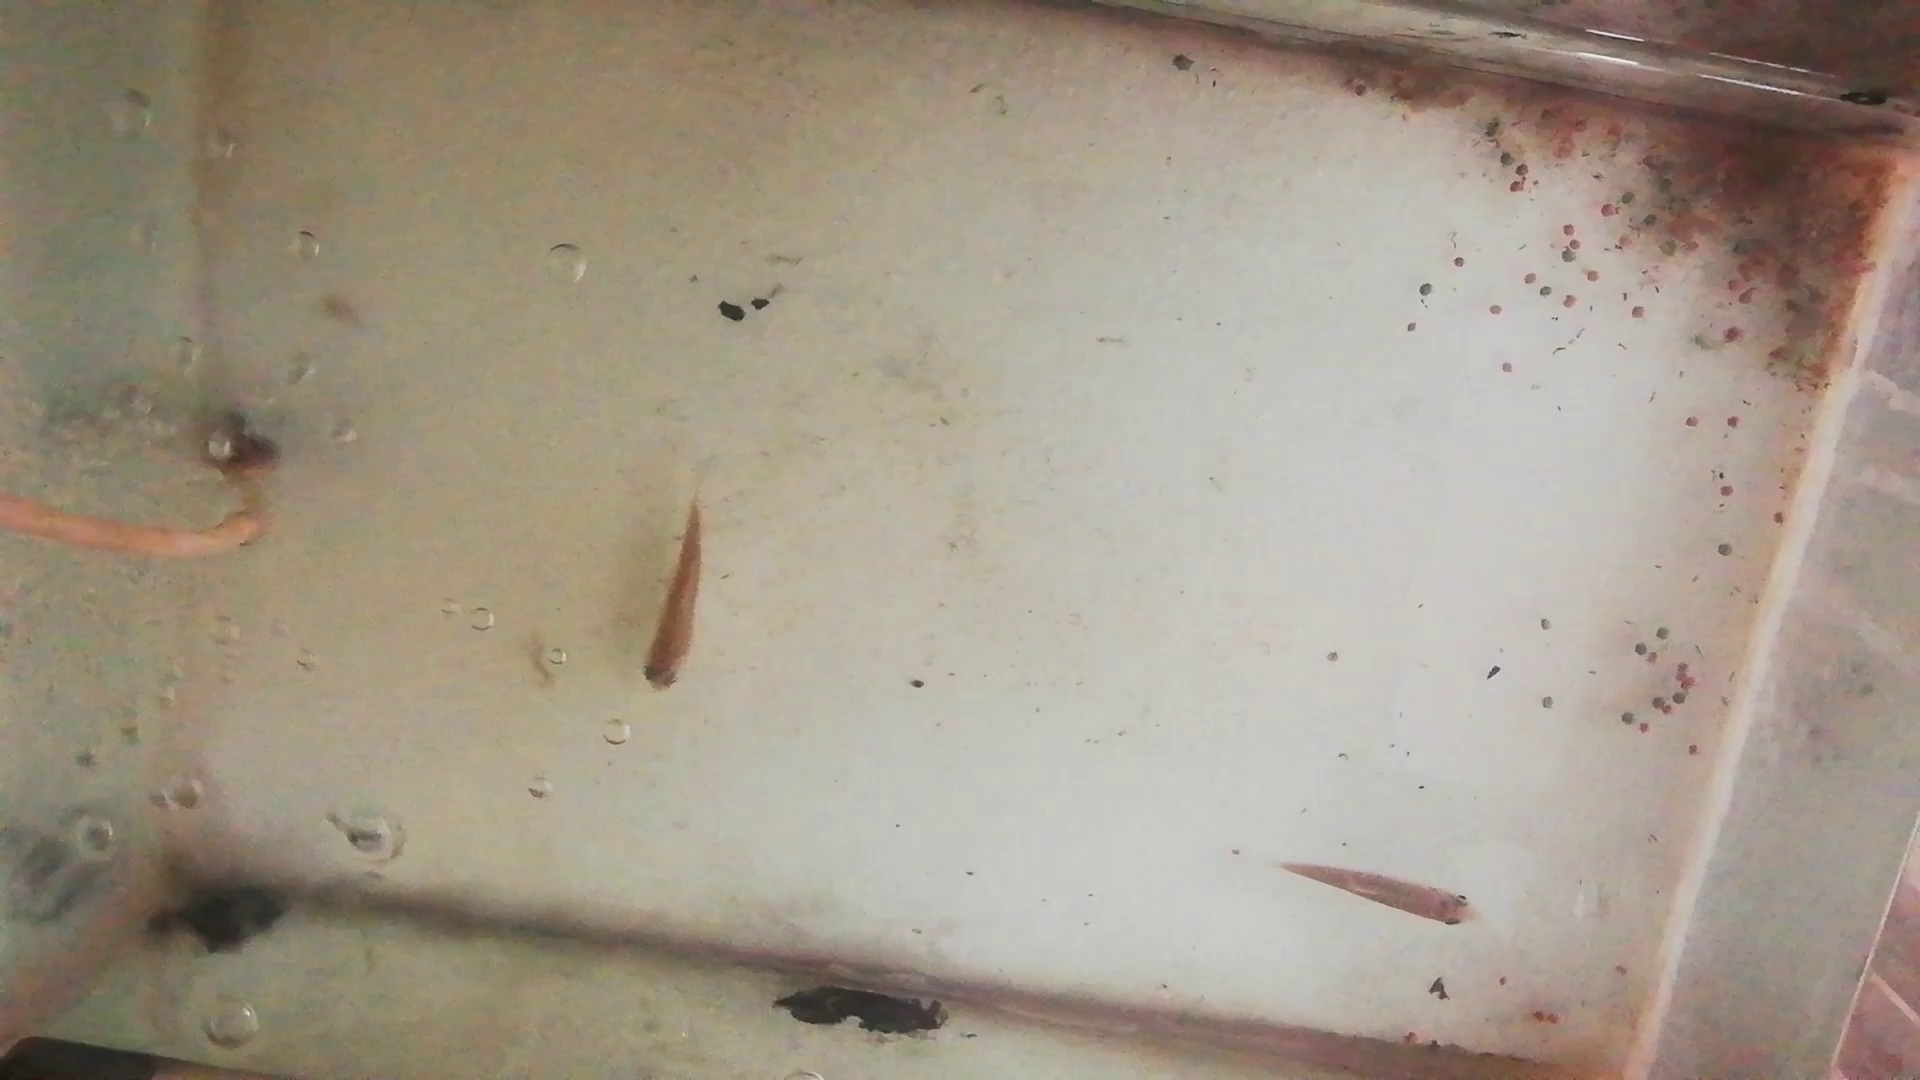fish: (1280, 860, 1476, 935), (637, 505, 705, 698)
